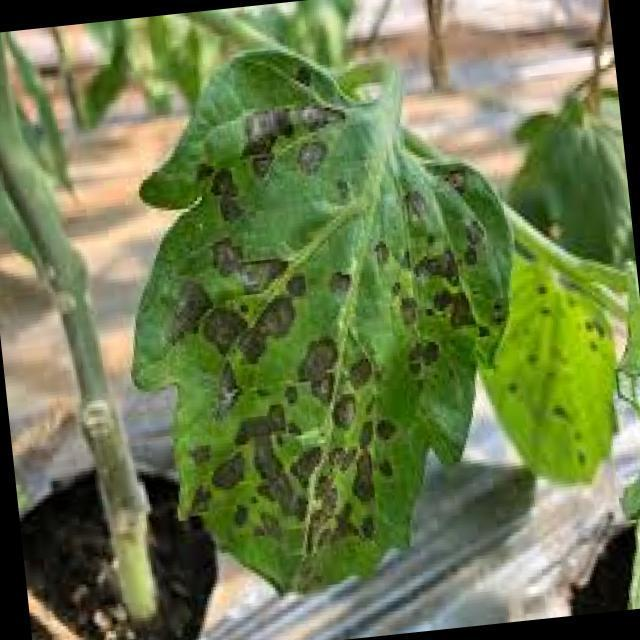Septoria: (157, 82, 506, 606)
